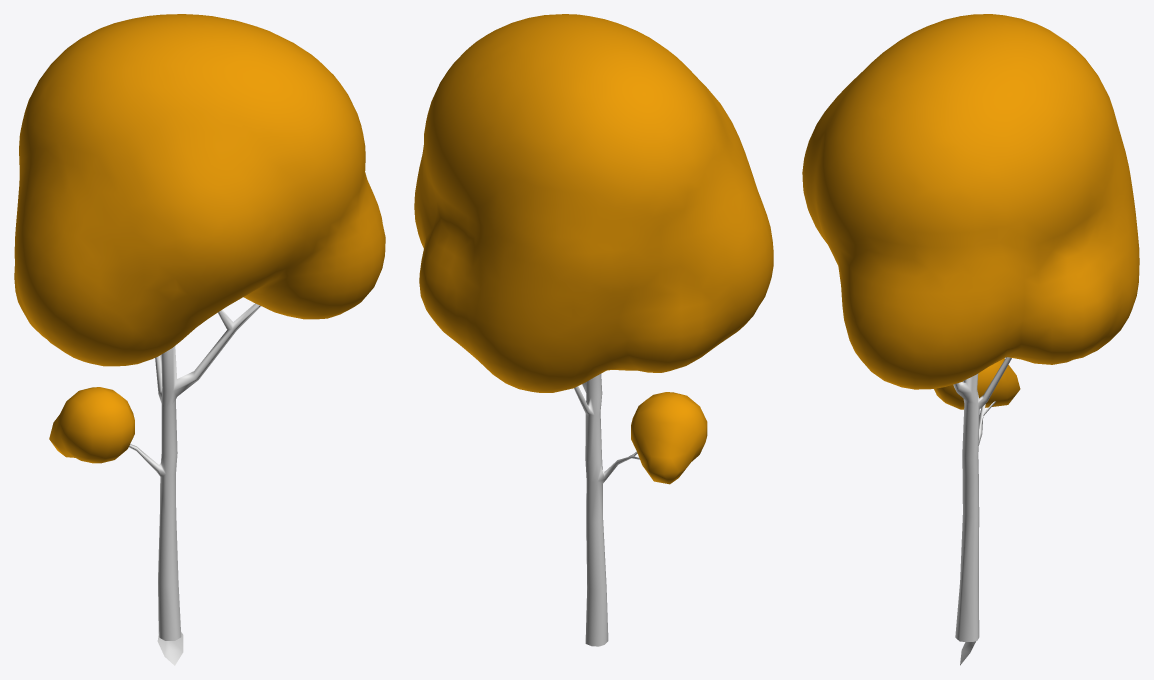
The model's file is tree_new.glb.
The picture shows the model from 3 angles, left to right: view 1: azimuth 30°, elevation 25°; view 2: azimuth 150°, elevation 25°; view 3: azimuth 270°, elevation 25°; orthographic projection.
Parts seen in each view (by area): view 1: Leaves, Pole; view 2: Leaves, Pole; view 3: Leaves, Pole.
Boxes of the visible parts, x1,y1,x2,y2 form: Leaves: (14,14,385,463); Pole: (129,303,260,640); Leaves: (414,14,773,484); Pole: (574,374,639,646); Leaves: (802,14,1139,409); Pole: (953,357,1011,641).
Size of the model in its own units: 2.64 by 4.75 by 2.28.
